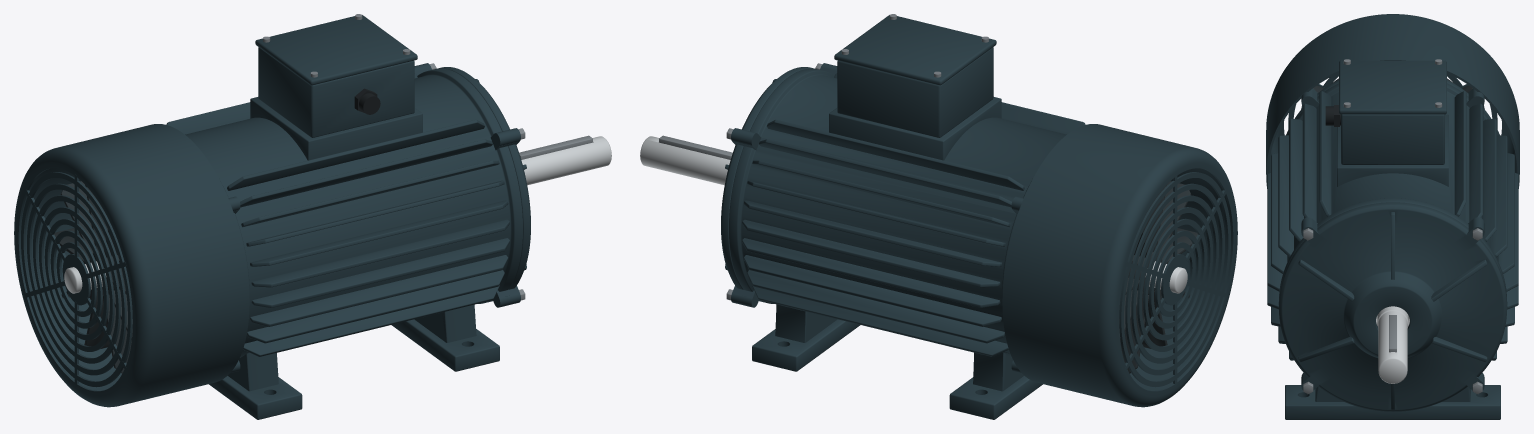
Rendered from induction-motor.glb.
3 renders of one model, left to right at view 1: azimuth 30°, elevation 25°; view 2: azimuth 150°, elevation 25°; view 3: azimuth 270°, elevation 25°, orthographic. The views are drawn at different scales.
Parts seen in each view (by area): view 1: housing, fan-cover, terminal-box, terminal-box-lid, shaft, end-shield-de, fan, housing_cut, shaft_key, fan-cover_cut; view 2: housing, fan-cover, terminal-box, terminal-box-lid, housing_cut, shaft, end-shield-de, fan, terminal-box-lid_cut, terminal-box_cut, shaft_key; view 3: end-shield-de, housing, fan-cover, terminal-box-lid, terminal-box, shaft, terminal-box_cut, terminal-box-lid_cut, housing_cut, end-shield-de_cut, end-shield-nde, shaft_key.
Part boxes in pixels (<box>): housing: <box>166,65,522,419</box>; fan-cover: <box>14,124,249,407</box>; terminal-box: <box>258,47,414,137</box>; terminal-box-lid: <box>255,14,417,85</box>; shaft: <box>64,136,611,293</box>; end-shield-de: <box>418,63,530,304</box>; fan: <box>54,181,132,373</box>; housing_cut: <box>186,97,522,390</box>; shaft_key: <box>519,135,592,159</box>; fan-cover_cut: <box>24,171,249,382</box>; housing: <box>729,65,1085,419</box>; fan-cover: <box>1002,124,1237,407</box>; terminal-box: <box>837,47,993,137</box>; terminal-box-lid: <box>834,14,996,85</box>; housing_cut: <box>747,108,1045,390</box>; shaft: <box>640,136,1187,293</box>; end-shield-de: <box>721,63,833,304</box>; fan: <box>1119,181,1197,373</box>; terminal-box-lid_cut: <box>836,36,967,83</box>; terminal-box_cut: <box>941,67,966,136</box>; shaft_key: <box>659,135,732,159</box>; end-shield-de: <box>1278,202,1507,411</box>; housing: <box>1267,83,1518,419</box>; fan-cover: <box>1266,14,1519,188</box>; terminal-box-lid: <box>1339,59,1446,114</box>; terminal-box: <box>1325,105,1444,164</box>; shaft: <box>1377,306,1408,383</box>; terminal-box_cut: <box>1393,114,1442,164</box>; terminal-box-lid_cut: <box>1393,61,1444,114</box>; housing_cut: <box>1315,92,1491,401</box>; end-shield-de_cut: <box>1282,209,1486,407</box>; end-shield-nde: <box>1286,80,1499,135</box>; shaft_key: <box>1389,315,1396,352</box>.
Bounding box in the file's own units: 0.568 × 0.3065 × 0.2444.
